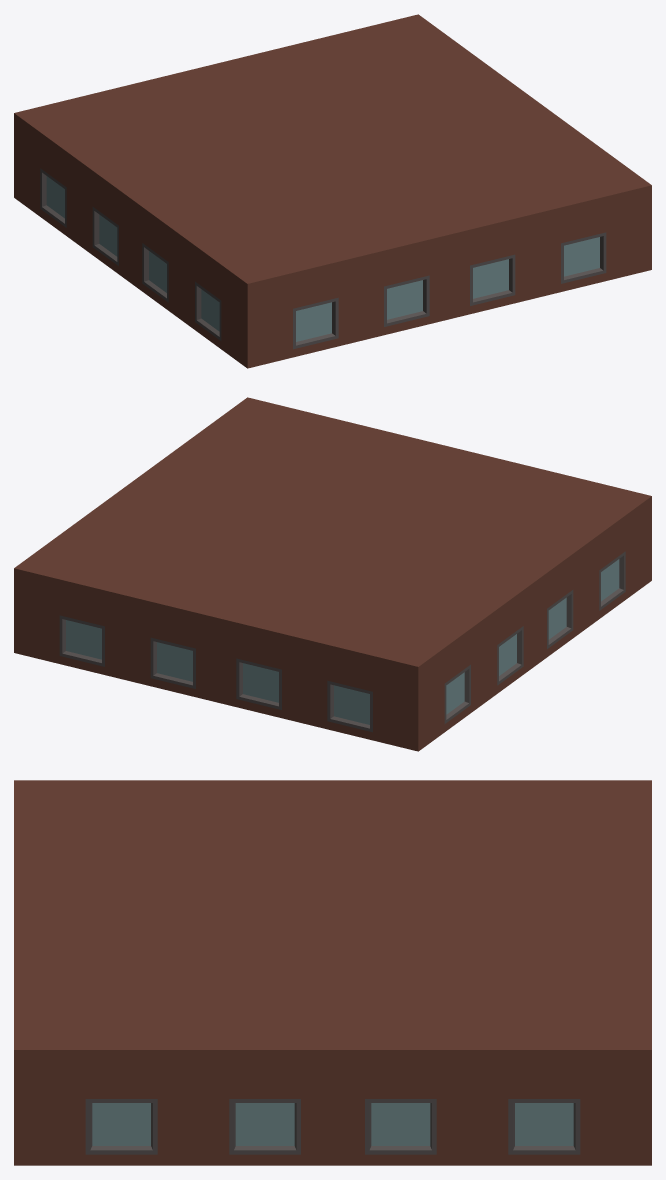
File: Building_Mid_S1.fbx
3 renders of one model, top to bottom at view 1: azimuth 30°, elevation 25°; view 2: azimuth 150°, elevation 25°; view 3: azimuth 270°, elevation 25°, orthographic. The views are drawn at different scales.
Parts seen in each view (by area): view 1: Building_Mid; view 2: Building_Mid; view 3: Building_Mid.
Boxes of the visible parts, box(x1,y1,x2,y2) form: Building_Mid: box(14, 14, 651, 368); Building_Mid: box(14, 397, 651, 751); Building_Mid: box(14, 780, 651, 1165).
Bounding box in the file's own units: 2500 × 500 × 2500.
